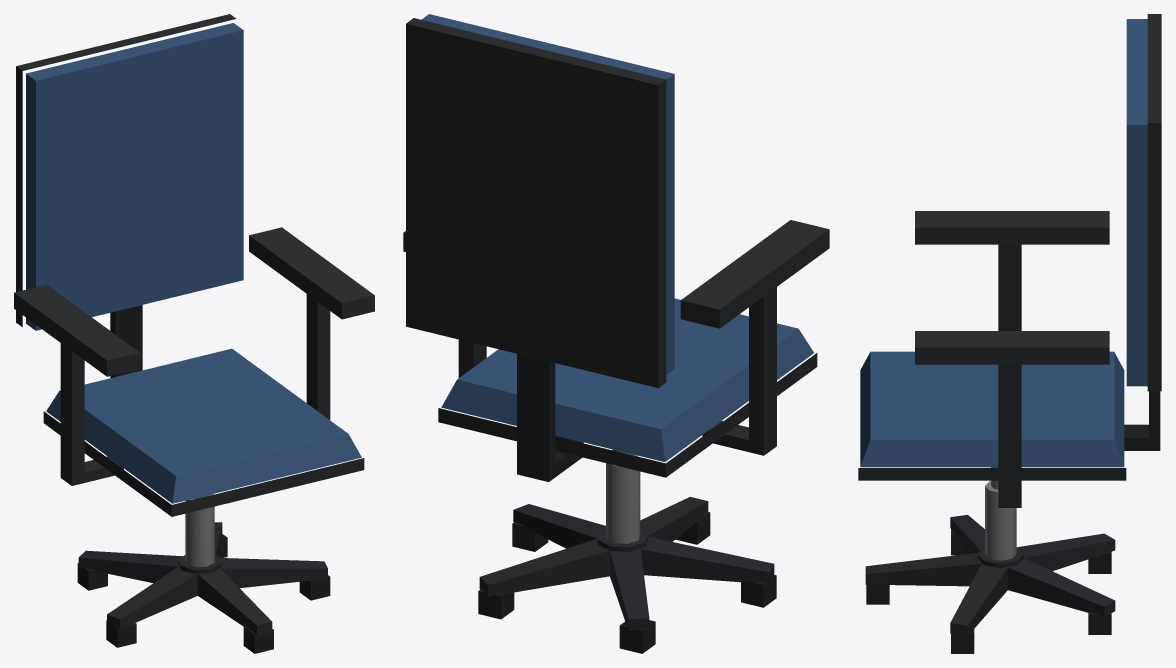
Rendered from seat.office.blue.glb.
The picture shows the model from 3 angles, left to right: view 1: azimuth 30°, elevation 25°; view 2: azimuth 150°, elevation 25°; view 3: azimuth 270°, elevation 25°; orthographic projection. The views are drawn at different scales.
Parts seen in each view (by area): view 1: seat_office_blue; view 2: seat_office_blue; view 3: seat_office_blue.
Boxes of the visible parts, bbox=[...] form: seat_office_blue: bbox=[14, 14, 374, 653]; seat_office_blue: bbox=[403, 14, 829, 653]; seat_office_blue: bbox=[858, 14, 1161, 653].
Size of what is drawn, in the model's own units: 0.695 by 1.26 by 0.652.
